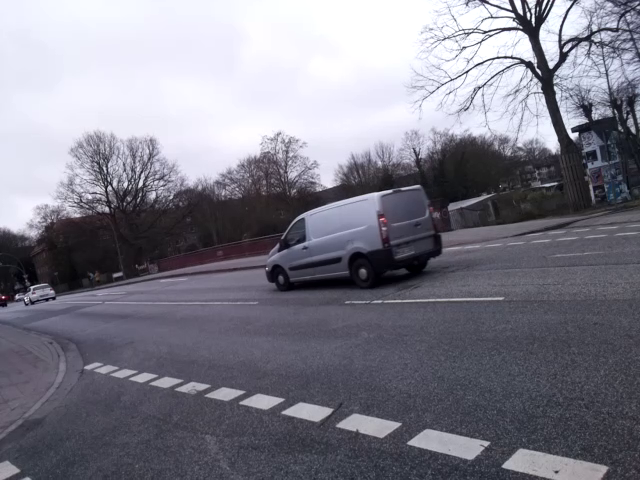car: (260, 185, 452, 286)
